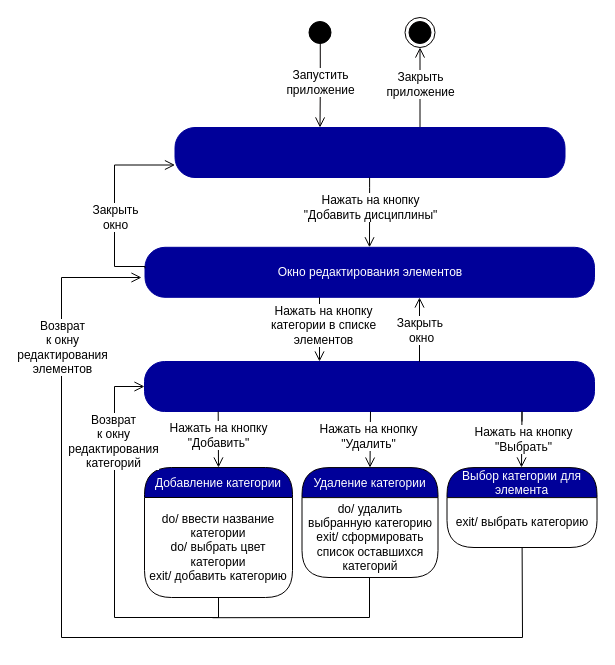
This 615x665 diagram has some shape labels left out. Each missing label, with the centre of its shape:
Главное окно: point 369,152
Окно редактирования категорий: point 369,386
